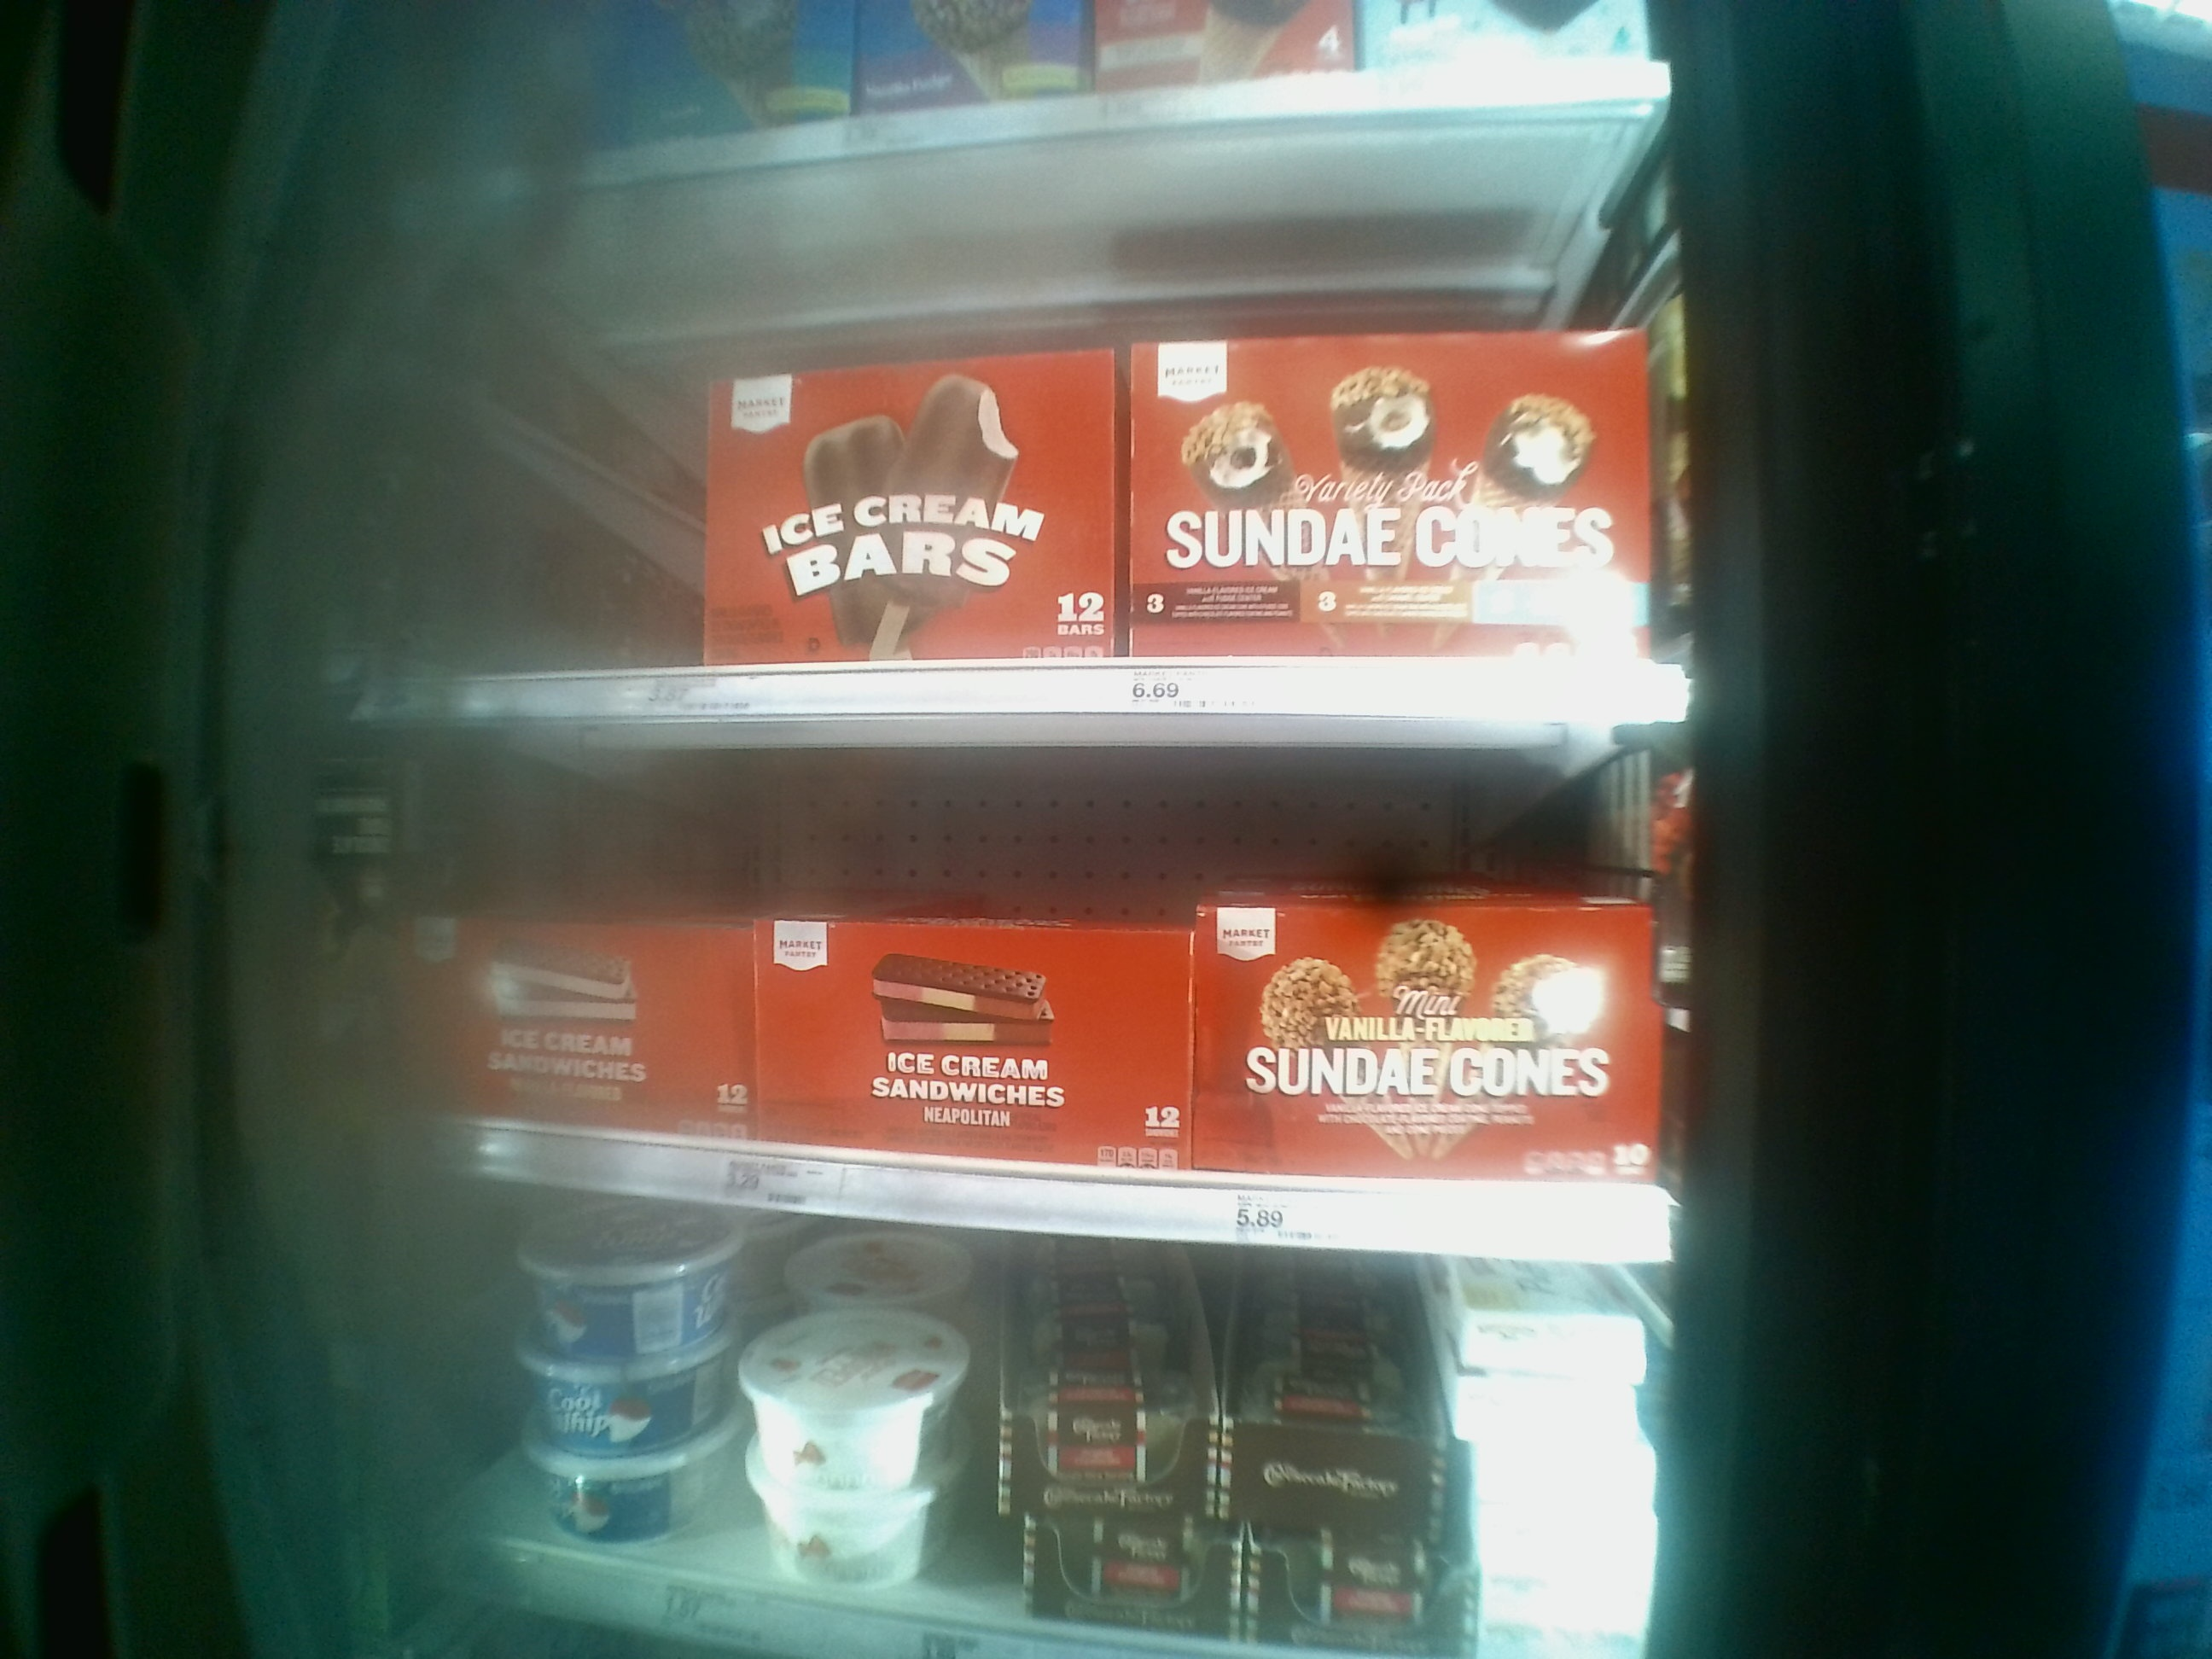shelf: (359, 721, 1674, 1265), (355, 193, 1700, 716)
